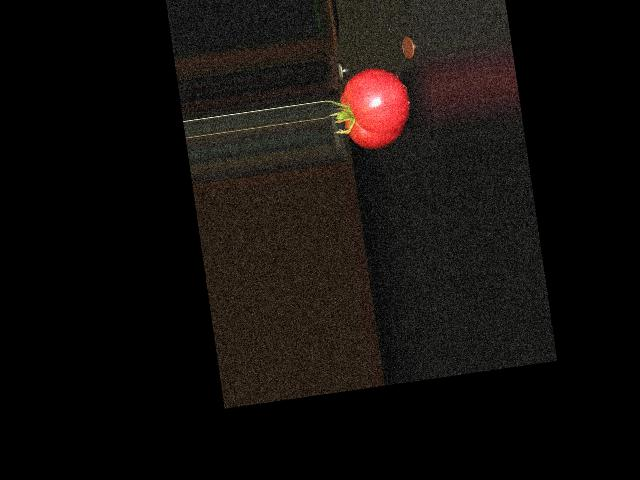tomato: (336, 64, 416, 153)
